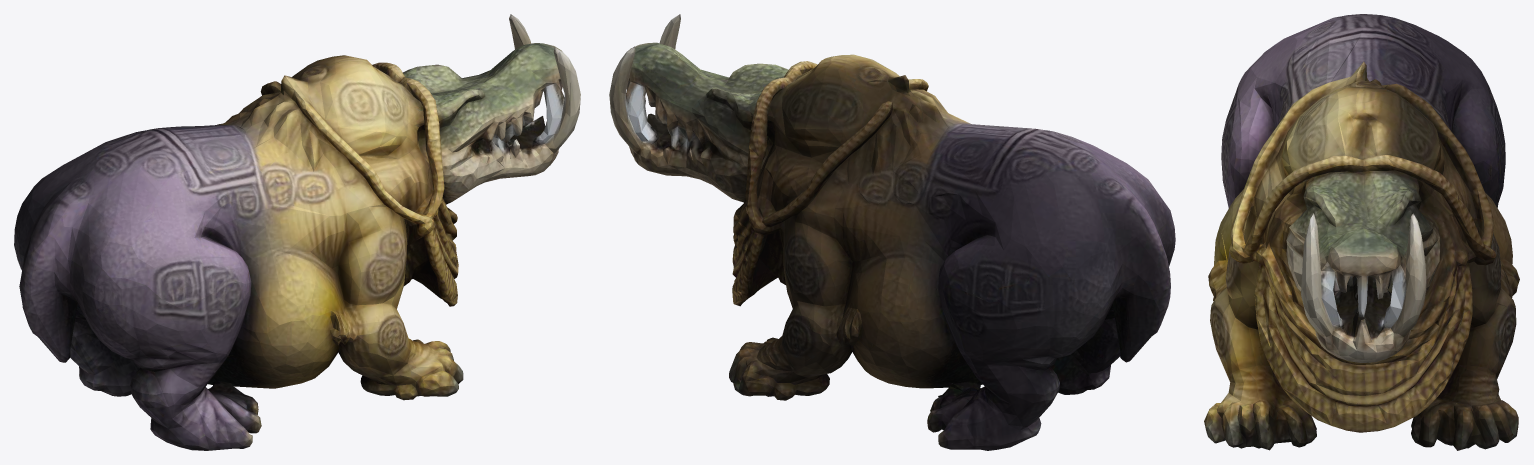
File: crushjaw__feastmaw.glb
The picture shows the model from 3 angles, left to right: view 1: azimuth 30°, elevation 25°; view 2: azimuth 150°, elevation 25°; view 3: azimuth 270°, elevation 25°; orthographic projection. The views are drawn at different scales.
Parts seen in each view (by area): view 1: world; view 2: world; view 3: world.
Boxes of the visible parts, <box> form: world: <box>14,14,580,450</box>; world: <box>609,14,1175,450</box>; world: <box>1204,14,1519,450</box>.
Size of the model in its own units: 0.9982 by 0.5423 by 0.457.
Materials: 1 (1 with a texture image).
